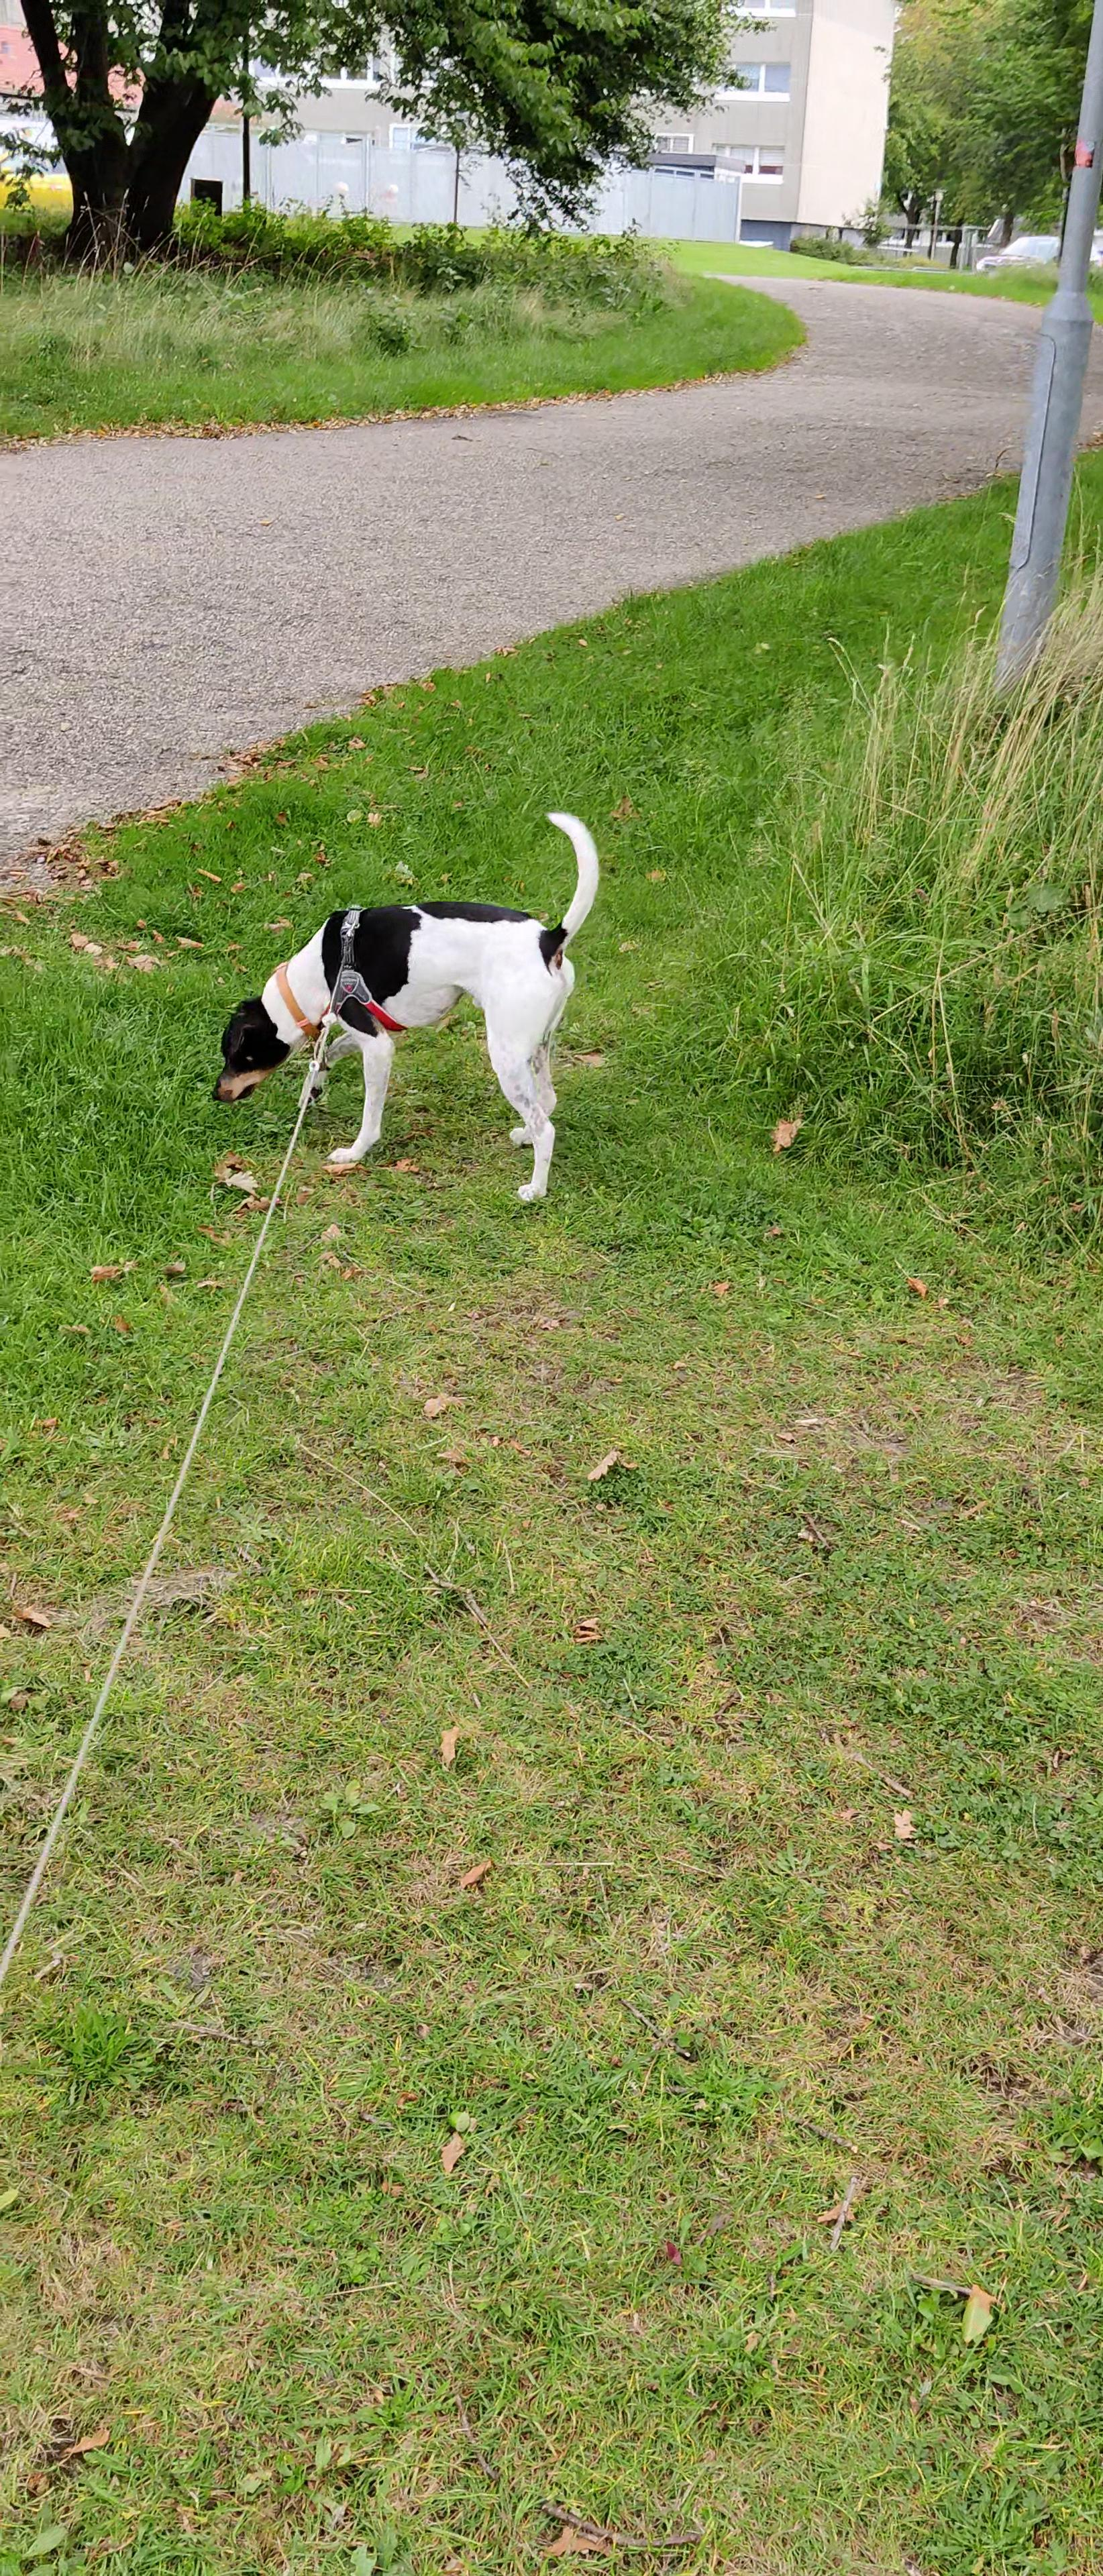Dog: (207, 805, 598, 1206)
